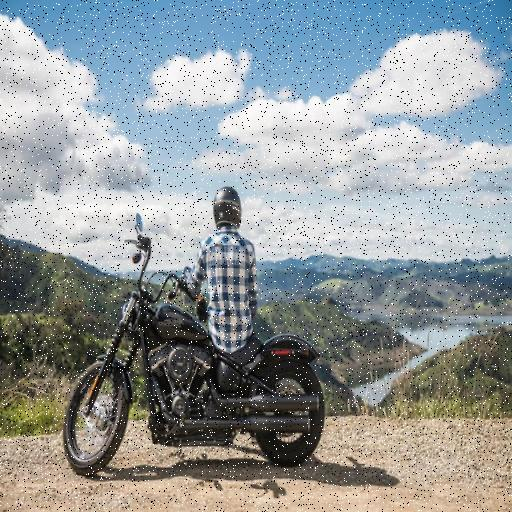Helmet: (207, 181, 251, 231)
Motor: (63, 274, 333, 480)
